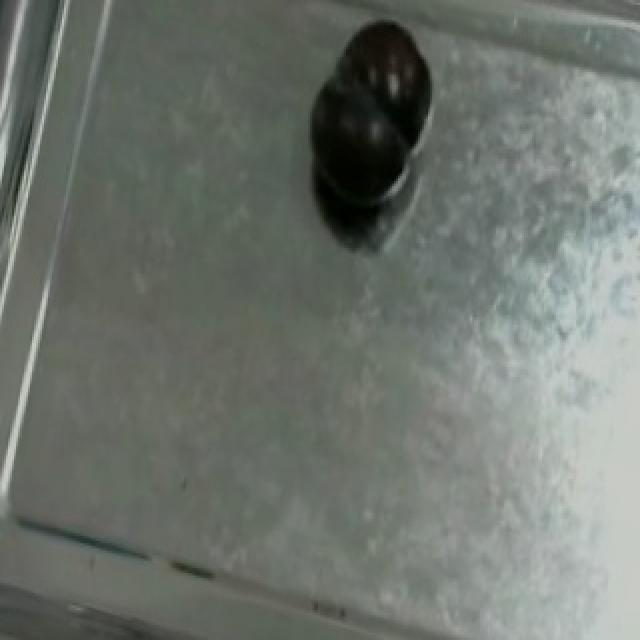Fruit: (296, 5, 442, 216)
